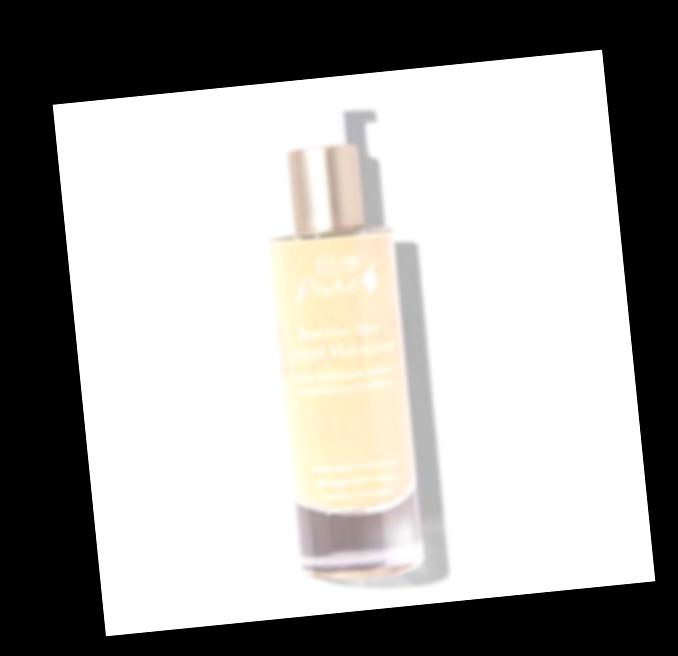cosmetic: (250, 94, 426, 576)
